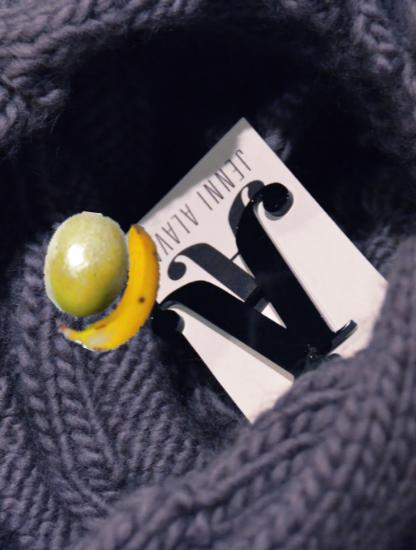Banana: (52, 223, 186, 357)
Maracuja: (32, 212, 142, 322)
